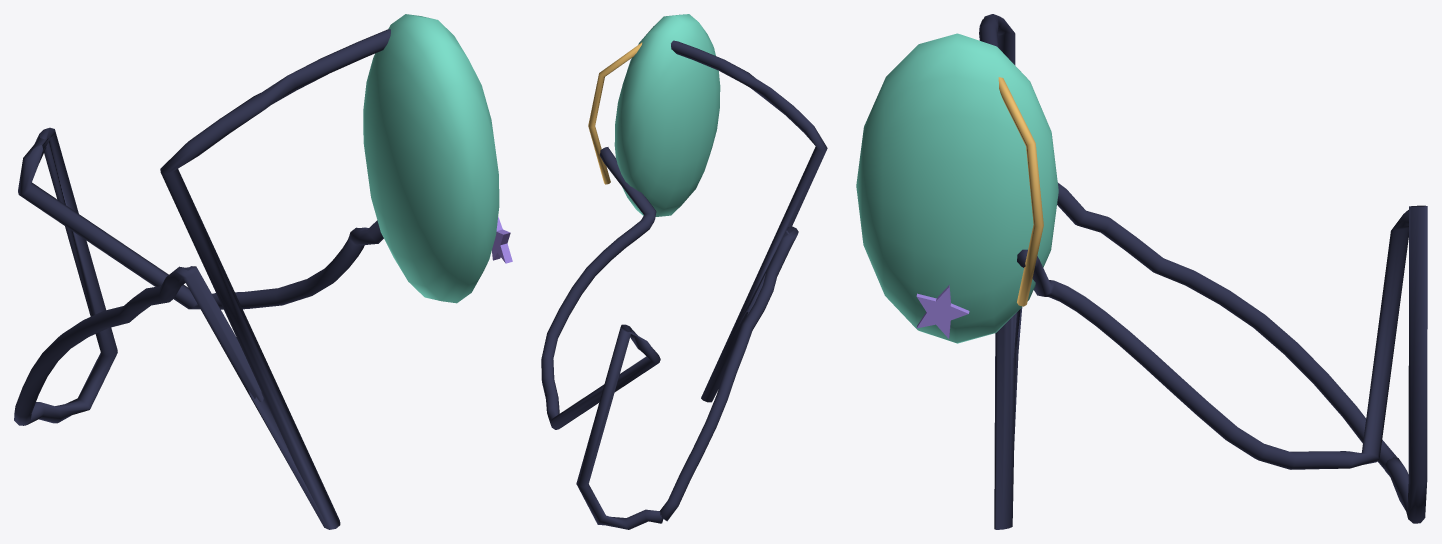
The model's file is crescent.glb.
3 views of the same model, side by side, from view 1: azimuth 30°, elevation 25°; view 2: azimuth 150°, elevation 25°; view 3: azimuth 270°, elevation 25° (orthographic). The views are drawn at different scales.
Visible parts, largest first — view 1: SHOP_crescent_optimized; view 2: SHOP_crescent_optimized; view 3: SHOP_crescent_optimized.
Boxes of the visible parts, box(x1,y1,x2,y2) form: SHOP_crescent_optimized: box(14, 14, 512, 529); SHOP_crescent_optimized: box(541, 14, 827, 529); SHOP_crescent_optimized: box(856, 14, 1427, 529).
Bounding box in the file's own units: 0.1851 × 0.2927 × 0.2757.
